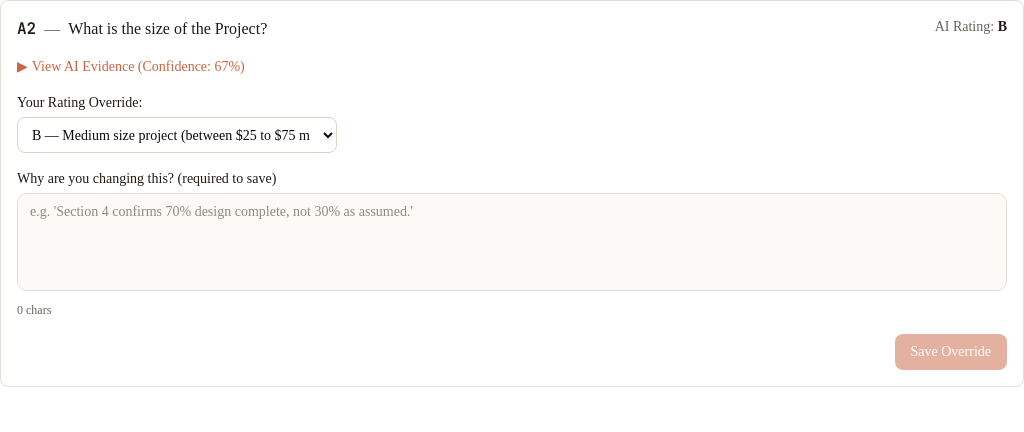
Test: OverrideCard › toggles AI evidence on click
Expected: the text "Plans show 60% design complete" is not shown
Click the button "▶ View AI Evidence (Confidence: 67%)".
click(131, 67)  # box [17,57,245,77]
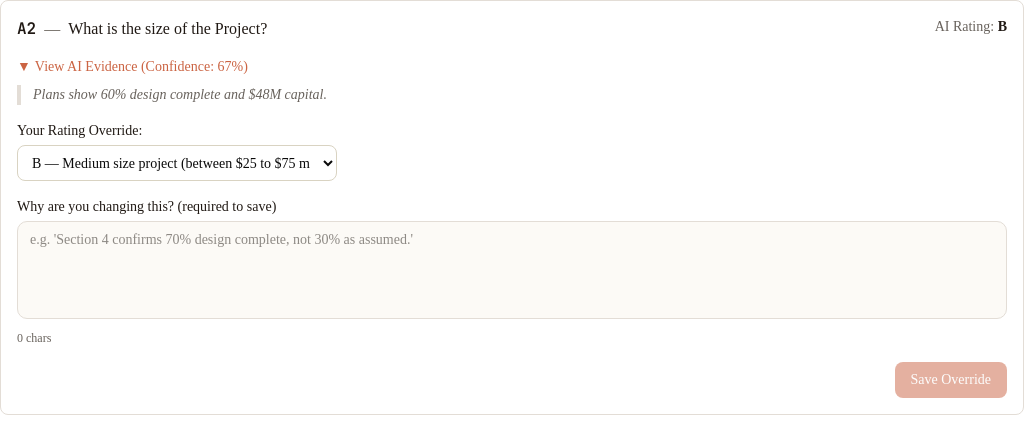
Now the text "Plans show 60% design complete and $48M capital." is shown, box [17,85,1007,105]
